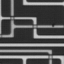dust: (50, 23, 55, 26)
